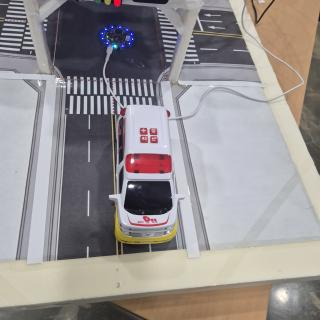Ambulance: (109, 105, 185, 244)
